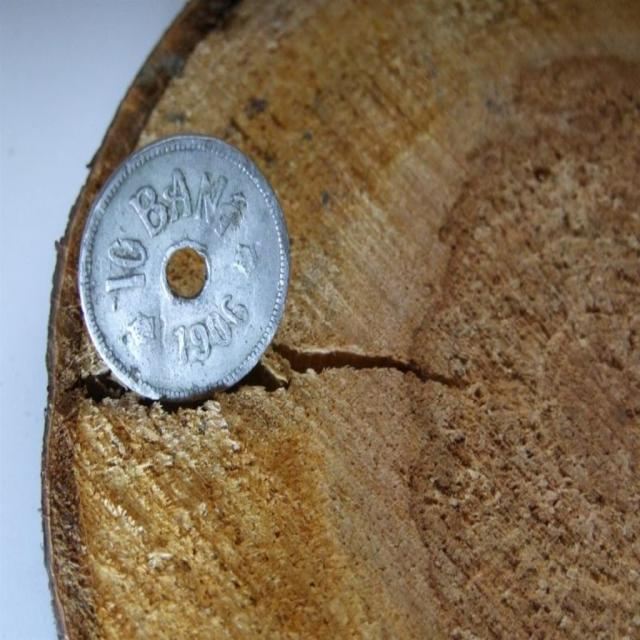Coin: (80, 134, 286, 406)
